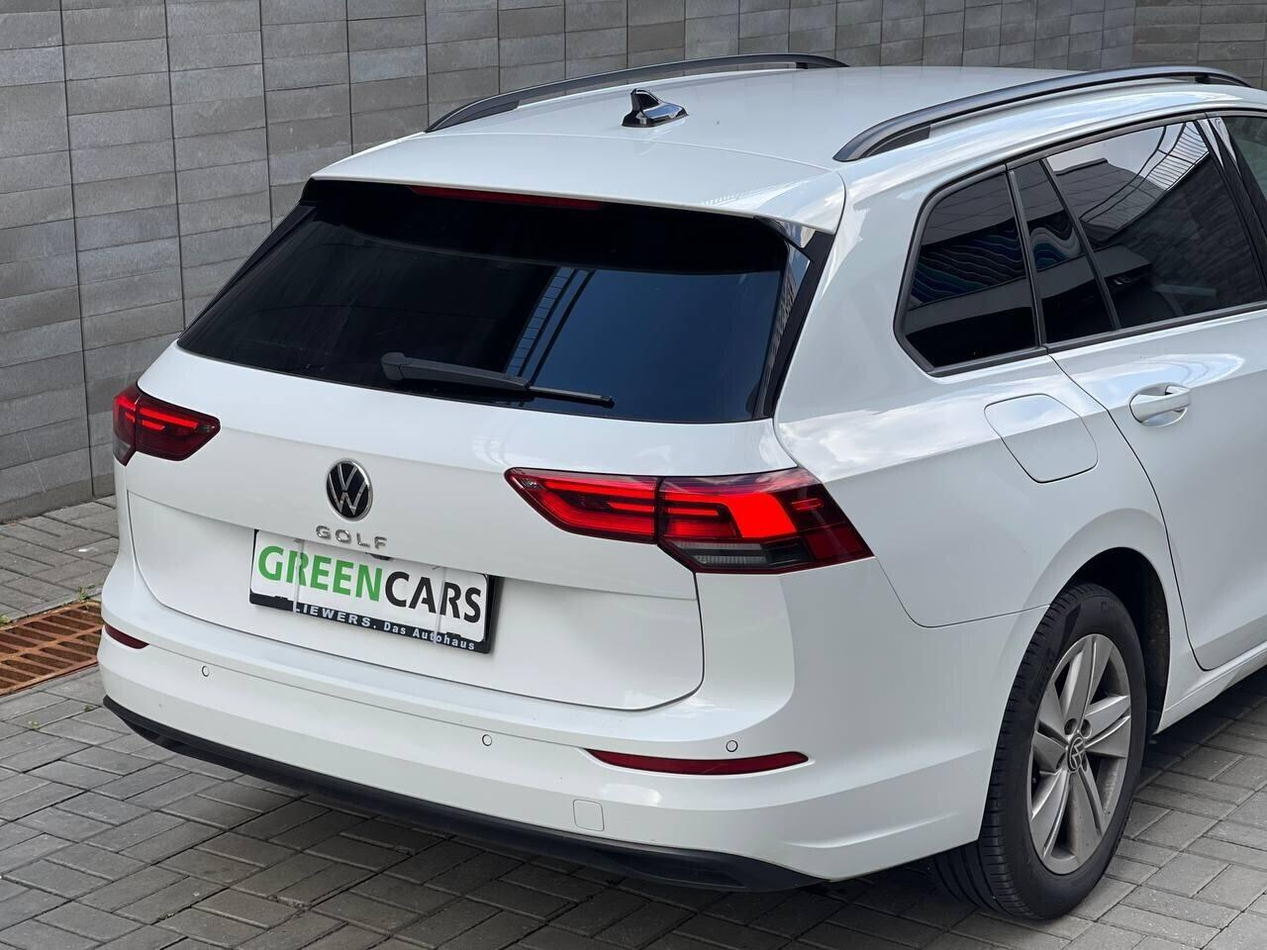Golf_2019: (76, 50, 1267, 905)
